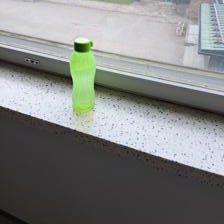bottle: (67, 35, 99, 117)
